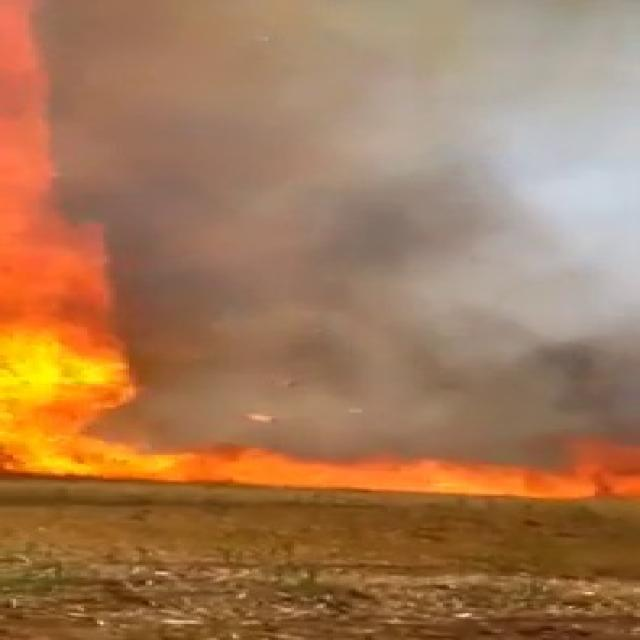Fire: (2, 84, 124, 448), (114, 448, 590, 494)
